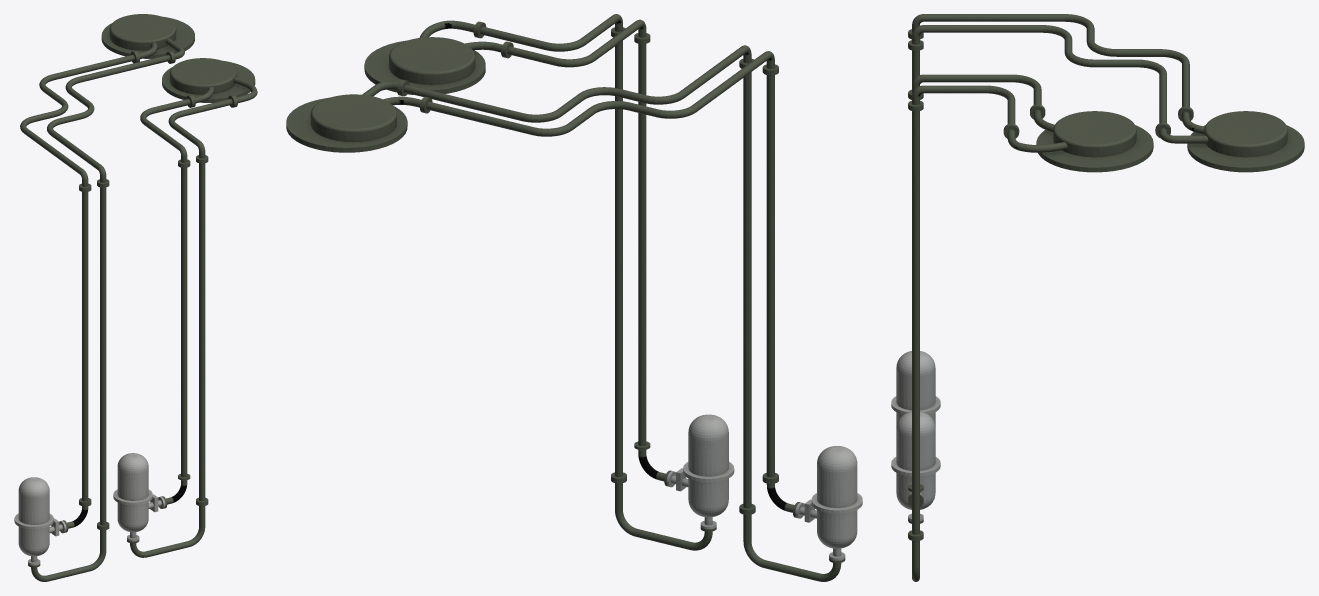
3 renders of one model, left to right at view 1: azimuth 30°, elevation 25°; view 2: azimuth 150°, elevation 25°; view 3: azimuth 270°, elevation 25°, orthographic. The views are drawn at different scales.
Parts seen in each view (by area): view 1: 23_滤油机; view 2: 23_滤油机; view 3: 23_滤油机.
Boxes of the visible parts, box(x1,y1,x2,y2) form: 23_滤油机: box(14, 14, 257, 581); 23_滤油机: box(286, 14, 862, 581); 23_滤油机: box(891, 14, 1304, 581).
Size of the model in its own units: 85.65 by 109 by 80.6.
1 material, 1 textured.
